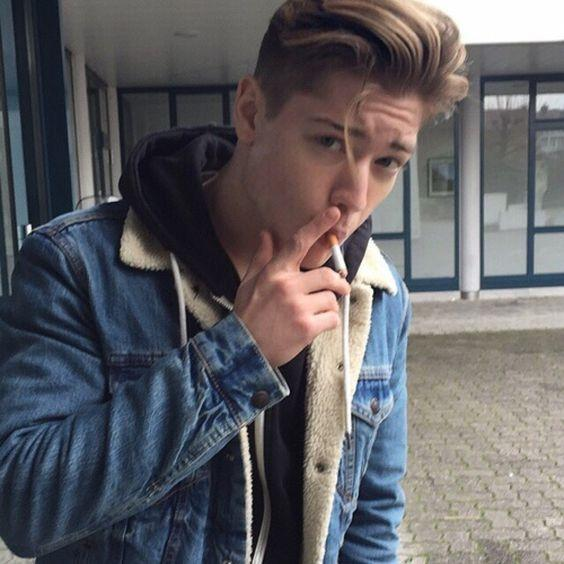cigarette: (326, 233, 348, 278)
